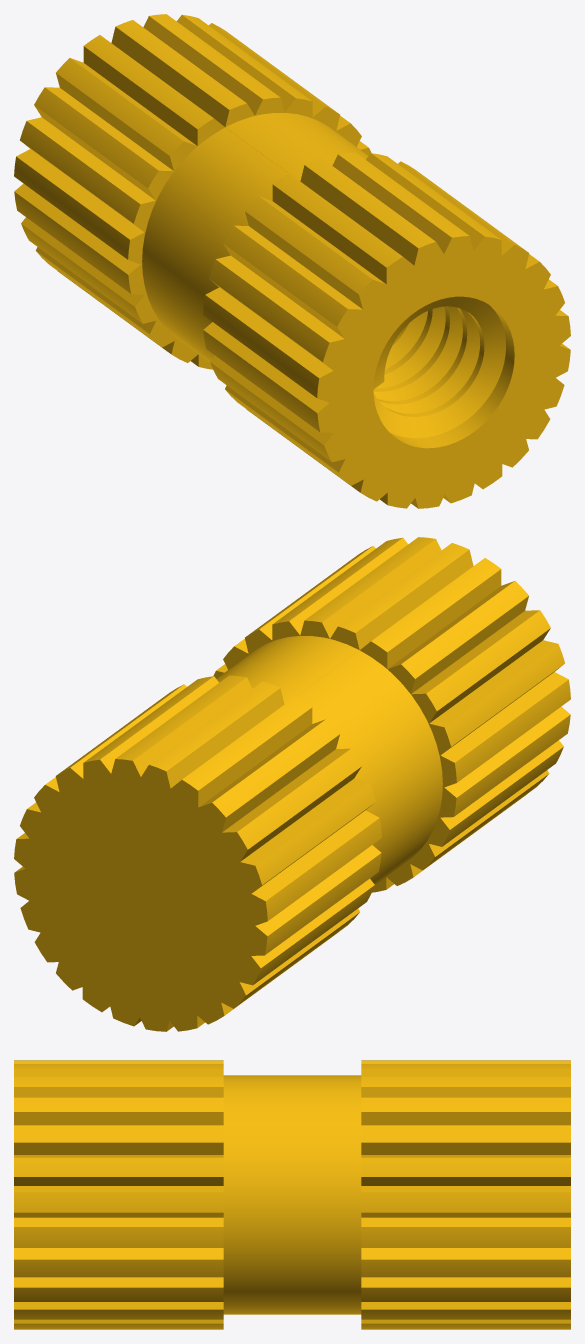
Rendered from M2_5_Insert_for_Helix_family.gltf.
The picture shows the model from 3 angles, top to bottom: view 1: azimuth 30°, elevation 25°; view 2: azimuth 150°, elevation 25°; view 3: azimuth 270°, elevation 25°; orthographic projection. The views are drawn at different scales.
Parts seen in each view (by area): view 1: mesh7314, mesh7243, mesh7320, mesh7231, mesh7238, mesh7171, mesh7289, mesh7168, mesh7283, mesh7295, mesh7174, mesh7245 (+41 smaller); view 2: mesh7234, mesh7243, mesh7310, mesh7238, mesh7289, mesh7171, mesh7168, mesh7283, mesh7174, mesh7295, mesh7165, mesh7245 (+38 smaller); view 3: mesh7243, mesh7219, mesh7259, mesh7216, mesh7222, mesh7256, mesh7262, mesh7213, mesh7265, mesh7225, mesh7253, mesh7210 (+40 smaller).
Part boxes in pixels (left/top/right/bottom): mesh7314: left=317, top=236, right=570, bottom=508; mesh7243: left=142, top=113, right=368, bottom=362; mesh7320: left=373, top=296, right=505, bottom=438; mesh7231: left=128, top=97, right=371, bottom=369; mesh7238: left=111, top=27, right=418, bottom=265; mesh7171: left=34, top=87, right=158, bottom=187; mesh7289: left=223, top=226, right=347, bottom=326; mesh7168: left=56, top=58, right=183, bottom=155; mesh7283: left=245, top=196, right=372, bottom=294; mesh7295: left=209, top=259, right=329, bottom=361; mesh7174: left=20, top=121, right=140, bottom=223; mesh7245: left=273, top=173, right=402, bottom=267; mesh7234: left=14, top=759, right=267, bottom=1031; mesh7243: left=216, top=636, right=442, bottom=885; mesh7310: left=213, top=620, right=456, bottom=892; mesh7238: left=166, top=550, right=473, bottom=788; mesh7289: left=426, top=610, right=550, bottom=710; mesh7171: left=237, top=749, right=361, bottom=849; mesh7168: left=212, top=719, right=339, bottom=817; mesh7283: left=401, top=581, right=528, bottom=678; mesh7174: left=255, top=782, right=375, bottom=884; mesh7295: left=444, top=644, right=564, bottom=746; mesh7165: left=182, top=696, right=311, bottom=790; mesh7245: left=371, top=558, right=500, bottom=652; mesh7243: left=223, top=1075, right=361, bottom=1314; mesh7219: left=361, top=1192, right=570, bottom=1212; mesh7259: left=14, top=1192, right=223, bottom=1212; mesh7216: left=361, top=1227, right=570, bottom=1246; mesh7222: left=361, top=1157, right=570, bottom=1176; mesh7256: left=14, top=1157, right=223, bottom=1176; mesh7262: left=14, top=1227, right=223, bottom=1246; mesh7213: left=361, top=1259, right=570, bottom=1277; mesh7265: left=14, top=1259, right=223, bottom=1277; mesh7225: left=361, top=1125, right=570, bottom=1142; mesh7253: left=14, top=1125, right=223, bottom=1142; mesh7210: left=361, top=1287, right=570, bottom=1301.
Size of the model in its own units: 0.0045 by 0.00449 by 0.0093.
